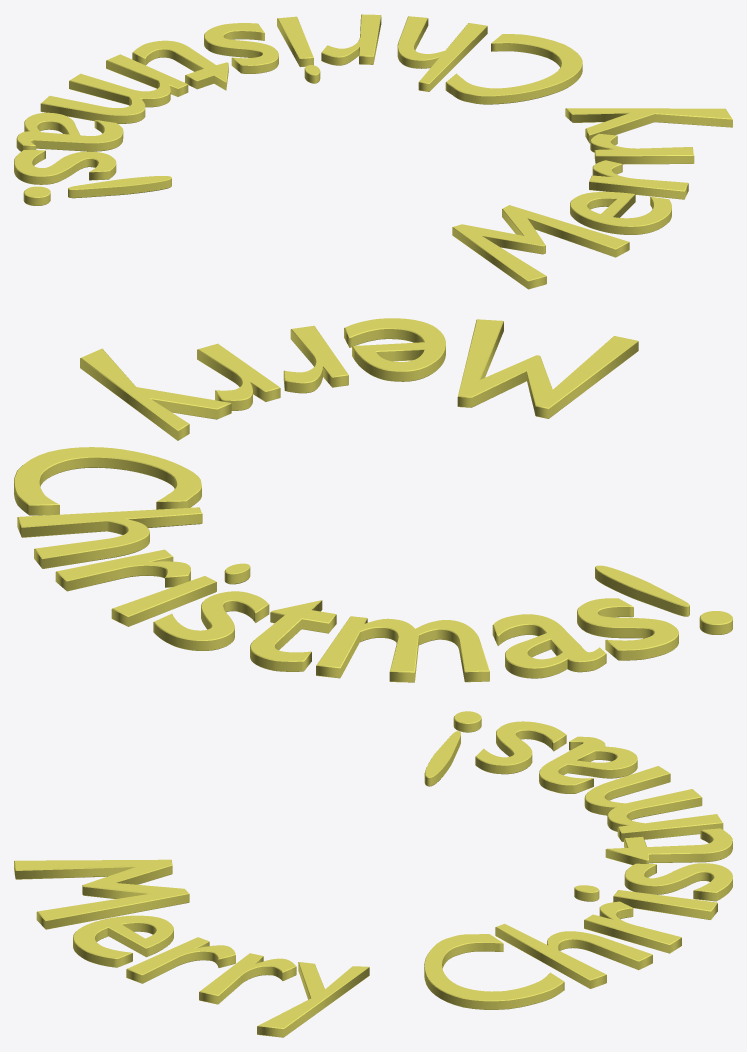
The model's file is MerryChristmas.dae.
The picture shows the model from 3 angles, top to bottom: view 1: azimuth 30°, elevation 25°; view 2: azimuth 150°, elevation 25°; view 3: azimuth 270°, elevation 25°; orthographic projection. The views are drawn at different scales.
Parts seen in each view (by area): view 1: Text; view 2: Text; view 3: Text.
Boxes of the visible parts, <box> form: Text: <box>14,14,732,289</box>; Text: <box>14,318,732,682</box>; Text: <box>14,711,732,1037</box>.
Bounding box in the file's own units: 1.84 × 1.76 × 0.0258.
